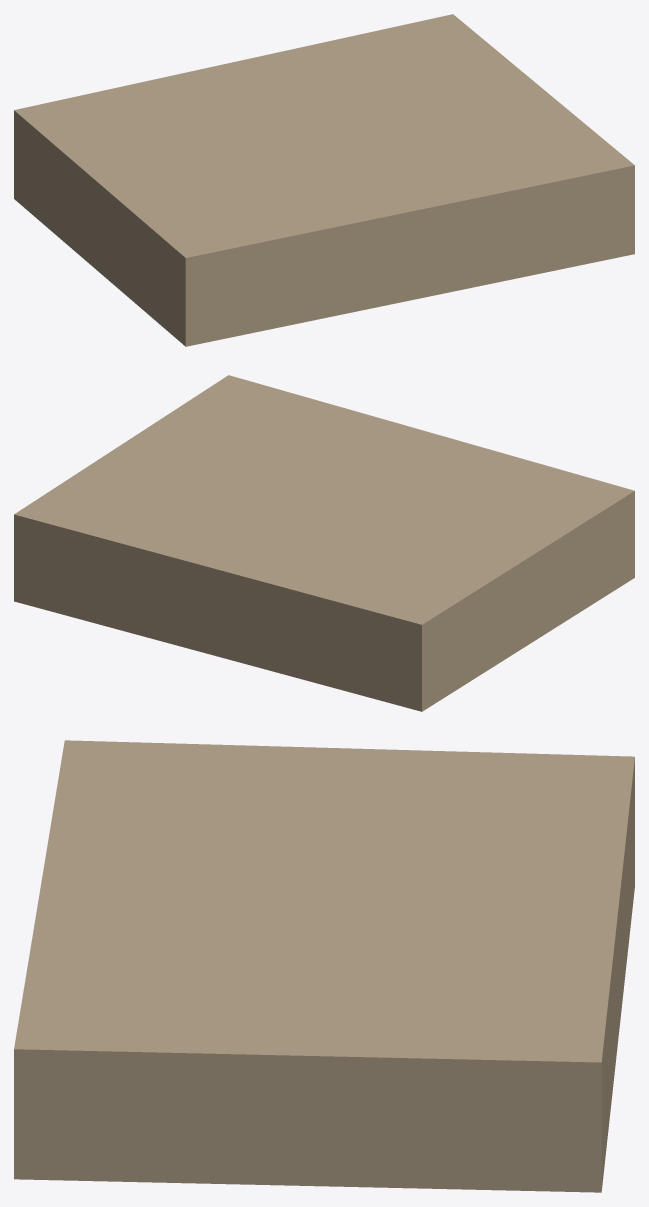
File: bld_512403792.dae
The picture shows the model from 3 angles, top to bottom: view 1: azimuth 30°, elevation 25°; view 2: azimuth 150°, elevation 25°; view 3: azimuth 270°, elevation 25°; orthographic projection. The views are drawn at different scales.
Visible parts, largest first — view 1: Maldon Salt; view 2: Maldon Salt; view 3: Maldon Salt.
Boxes of the visible parts, x1,y1,x2,y2 form: Maldon Salt: (14,14,634,346); Maldon Salt: (14,375,634,711); Maldon Salt: (14,740,634,1192).
Size of the model in its own units: 53.1 by 43.26 by 10.
